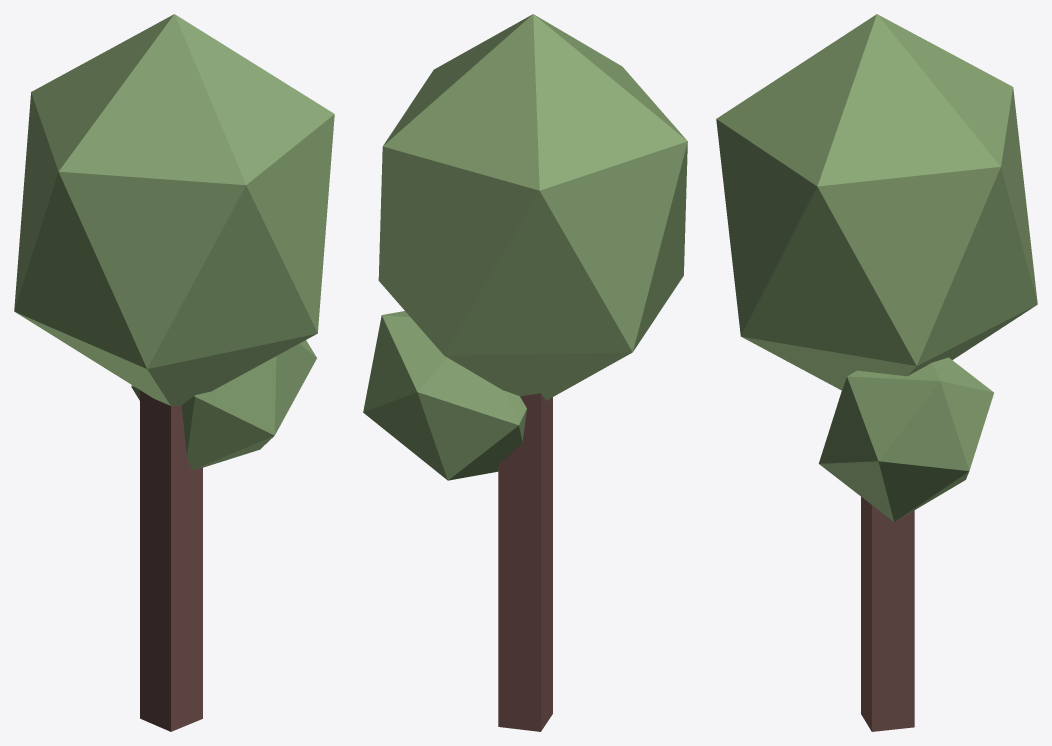
The model's file is tree_large.glb.
3 views of the same model, side by side, from view 1: azimuth 30°, elevation 25°; view 2: azimuth 150°, elevation 25°; view 3: azimuth 270°, elevation 25° (orthographic).
Visible parts, largest first — view 1: ShortTree.001_31; view 2: ShortTree.001_31; view 3: ShortTree.001_31.
Boxes of the visible parts, box(x1,y1,x2,y2) form: ShortTree.001_31: box(14, 14, 334, 731); ShortTree.001_31: box(363, 14, 687, 731); ShortTree.001_31: box(716, 14, 1037, 731).
Size of the model in its own units: 3.26 by 7.9 by 3.26.
